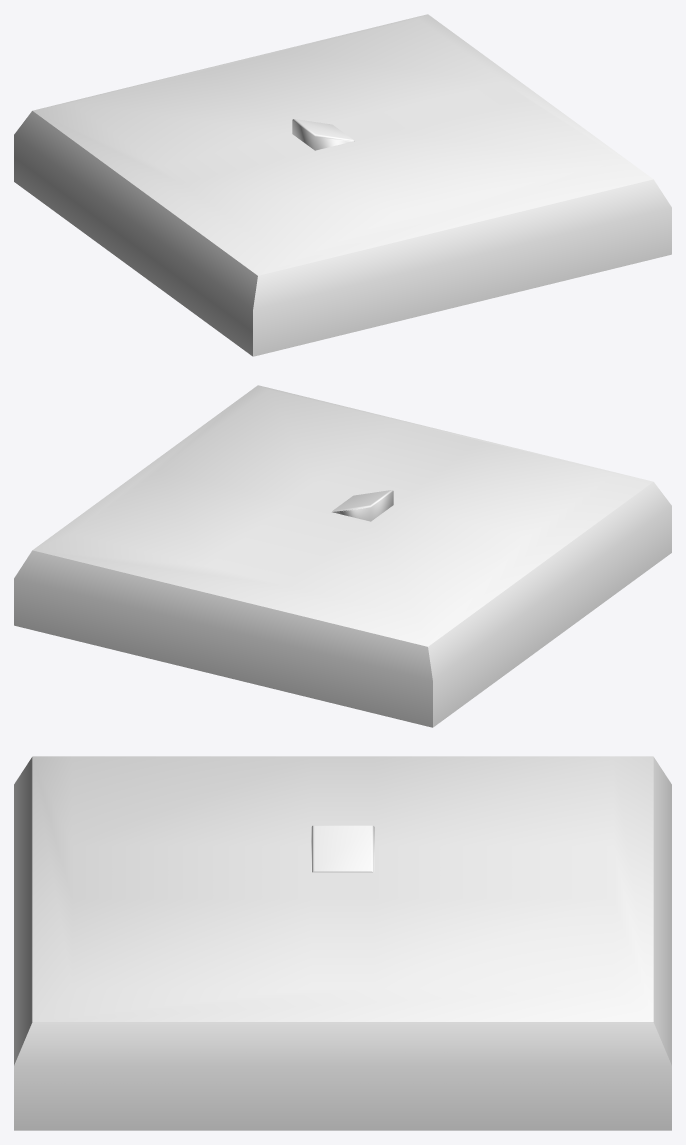
The model's file is LightSwitches.FBX.
3 views of the same model, one above another, from view 1: azimuth 30°, elevation 25°; view 2: azimuth 150°, elevation 25°; view 3: azimuth 270°, elevation 25° (orthographic). The views are drawn at different scales.
Visible parts, largest first — view 1: Box001; view 2: Box001; view 3: Box001.
Boxes of the visible parts, x1,y1,x2,y2 form: Box001: [14, 14, 671, 356]; Box001: [14, 385, 671, 727]; Box001: [14, 756, 671, 1130].
Bounding box in the file's own units: 18.42 × 4.24 × 18.21.
1 material, 1 textured.
